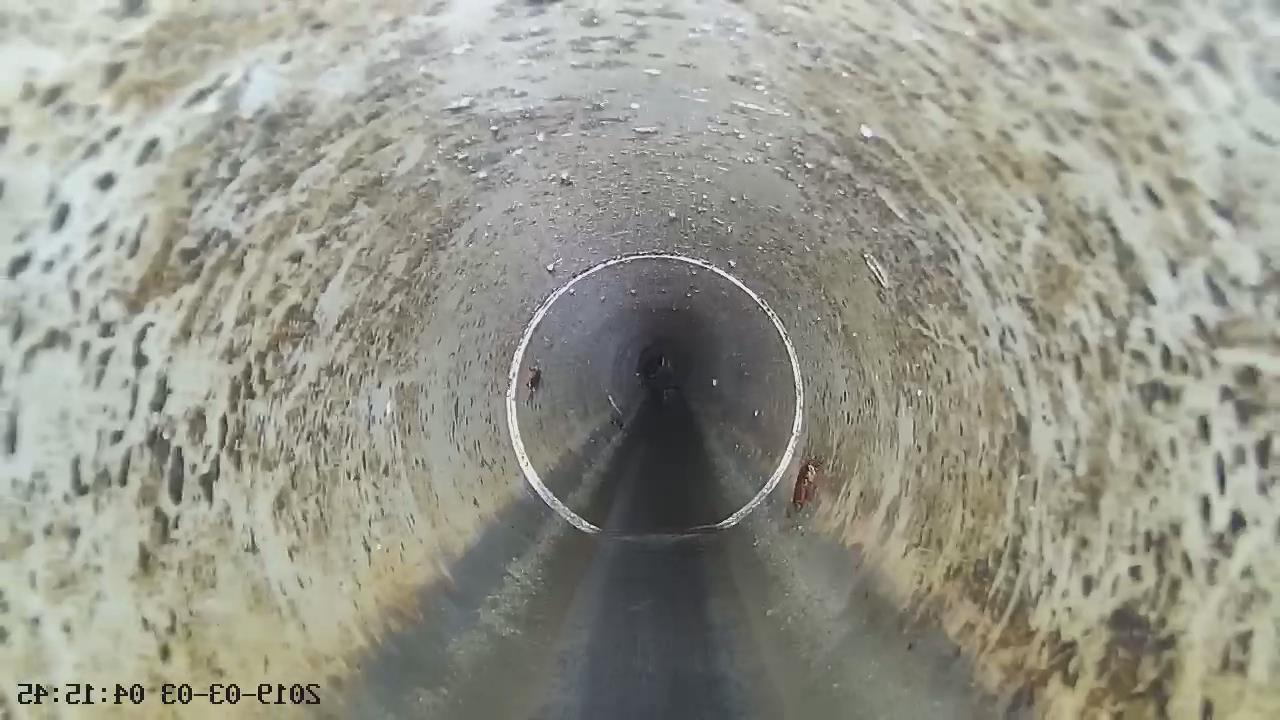CKTJ: (500, 247, 809, 539)
